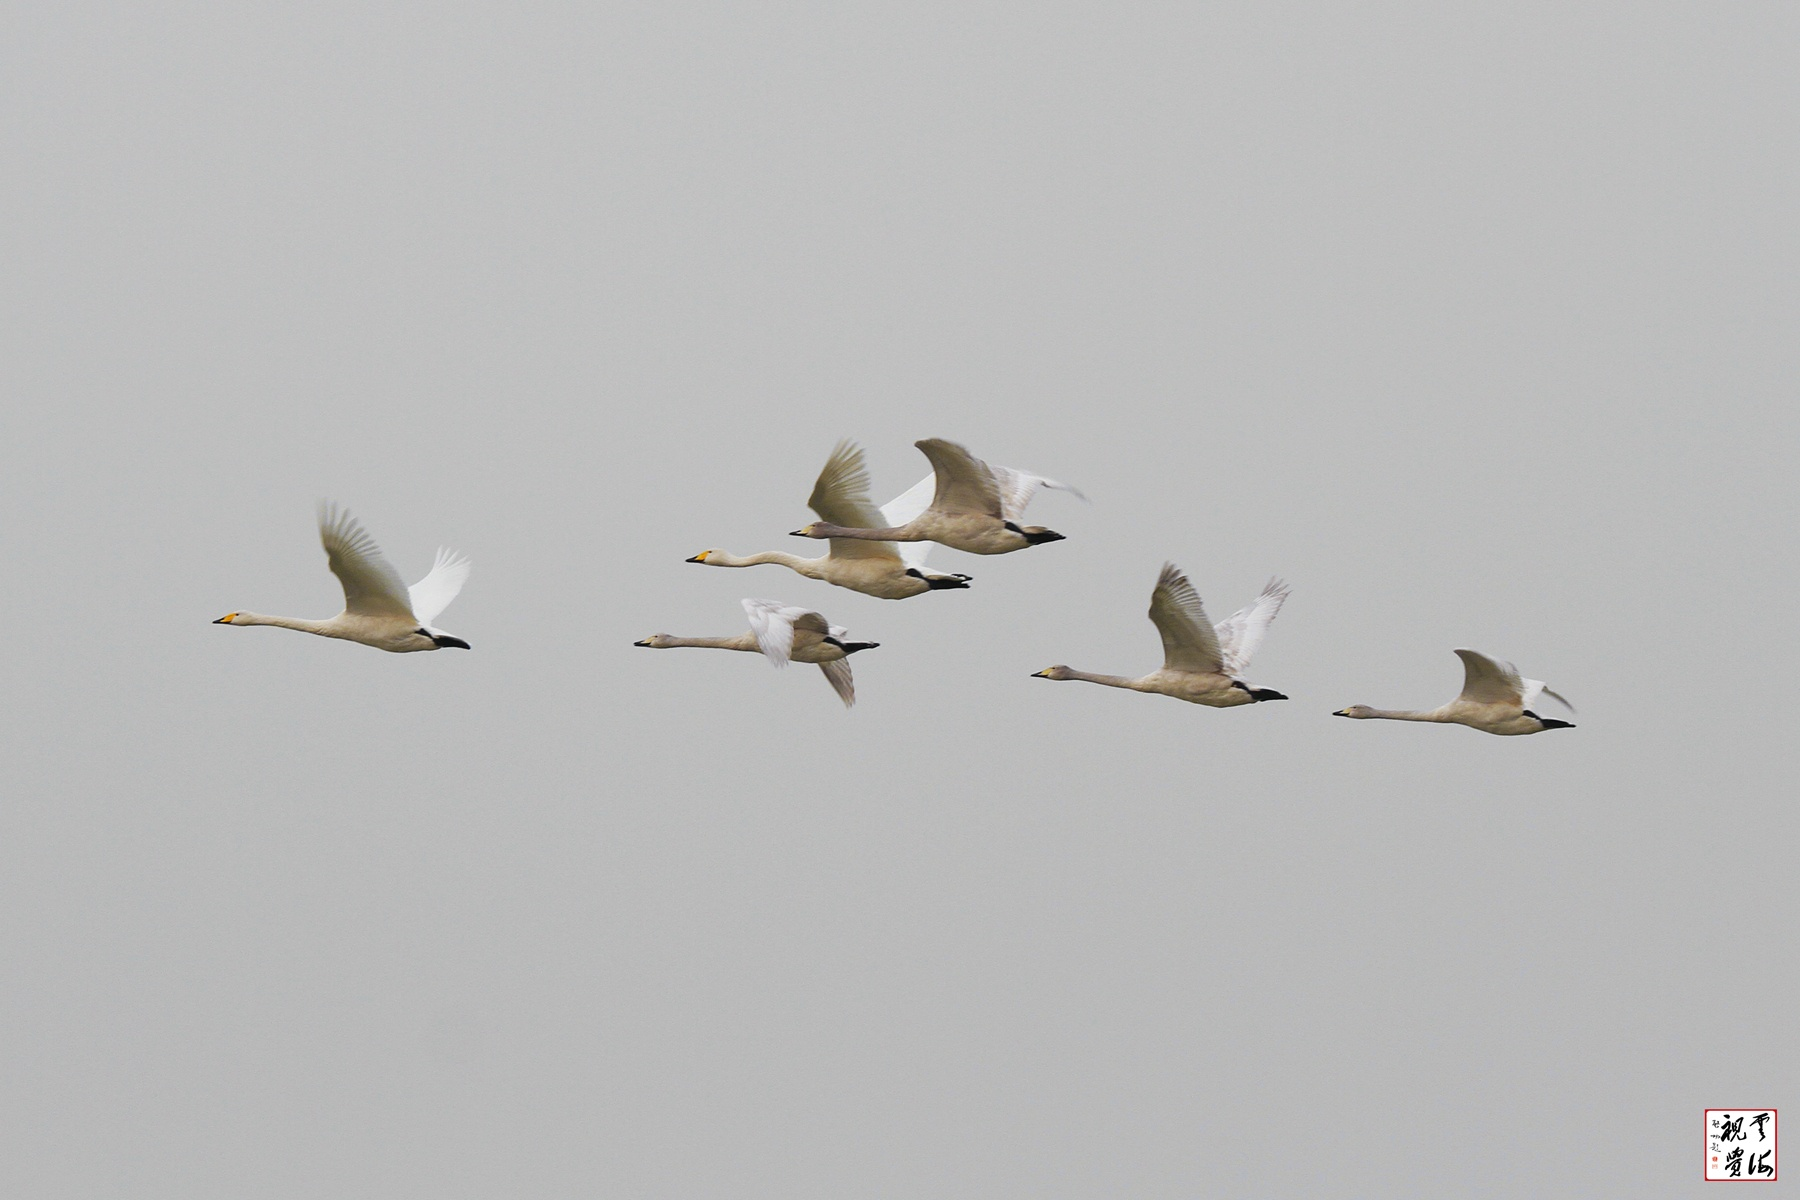bird: (675, 435, 975, 609), (1037, 557, 1292, 714), (210, 510, 478, 654), (786, 427, 1067, 556), (624, 595, 887, 708), (1335, 643, 1576, 747)
